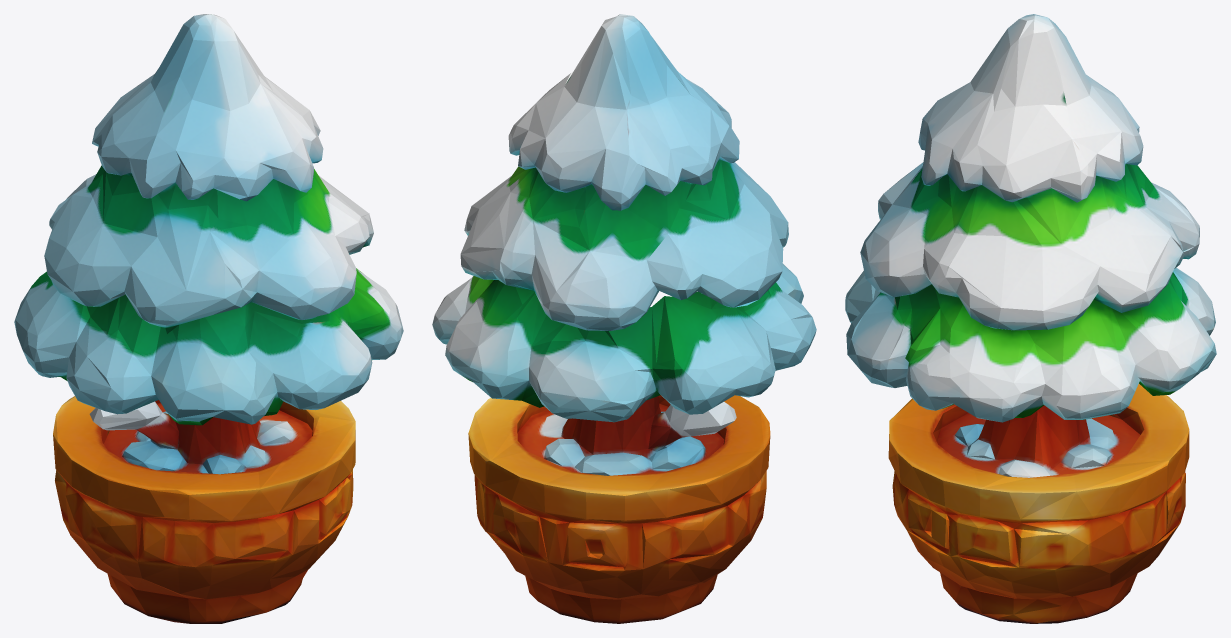
The model's file is snow_tree.glb.
3 renders of one model, left to right at view 1: azimuth 30°, elevation 25°; view 2: azimuth 150°, elevation 25°; view 3: azimuth 270°, elevation 25°, orthographic.
Parts seen in each view (by area): view 1: world; view 2: world; view 3: world.
Boxes of the visible parts, x1,y1,x2,y2 form: world: (14,14,403,623); world: (432,14,816,623); world: (845,14,1216,623).
Bounding box in the file's own units: 0.5956 × 1 × 0.5912.
1 material, 1 textured.
